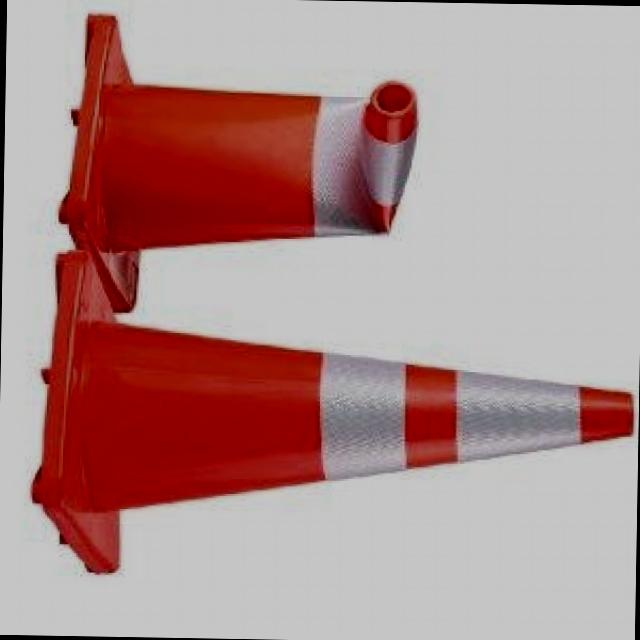cone: (29, 330, 634, 562)
